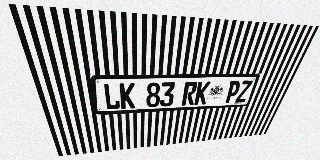3: (160, 82, 175, 107)
8: (146, 82, 161, 107)
K: (119, 83, 135, 109), (194, 81, 211, 105)
L: (103, 83, 120, 110)
P: (224, 81, 242, 103)
R: (181, 81, 198, 106)
Z: (235, 80, 253, 103)
